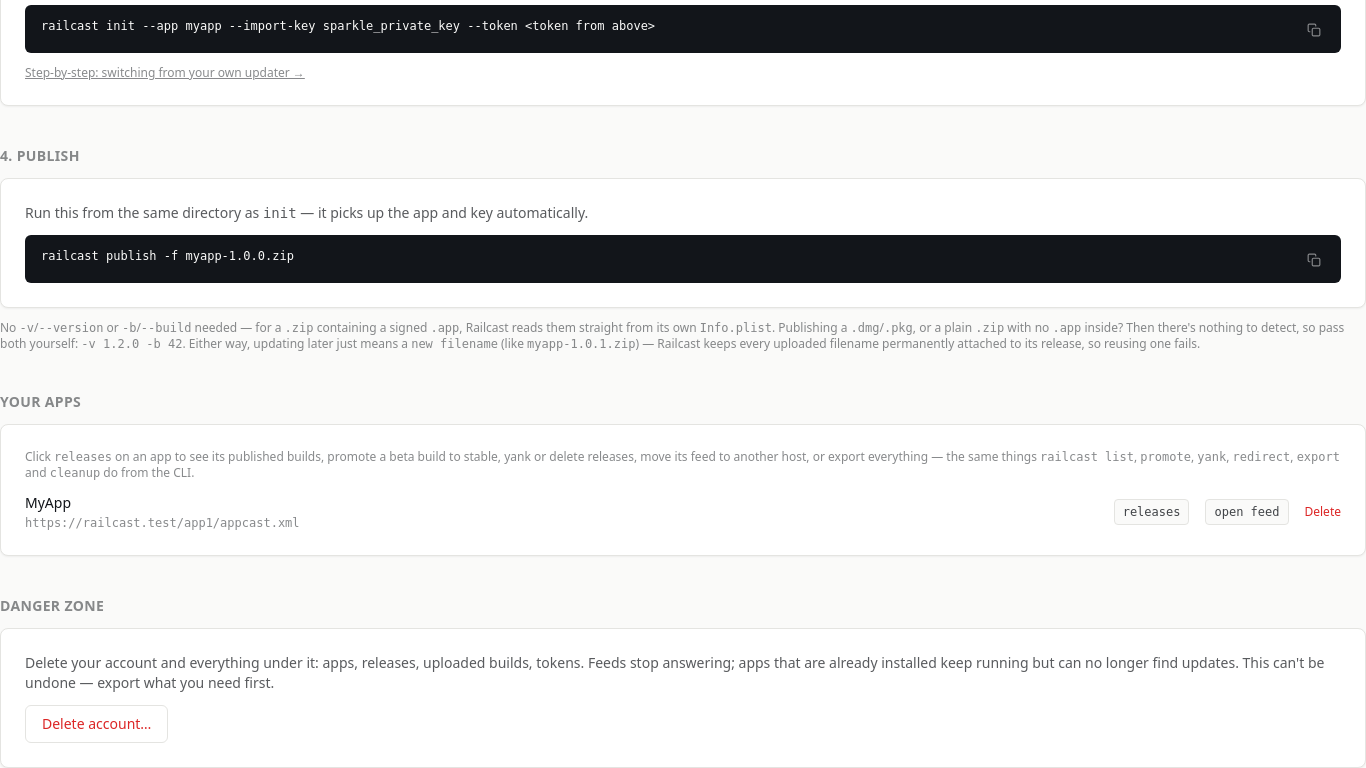
Scenario: export › shows the server's message when the export is refused
(page scrolled)
Step 1. Click the button "releases" → x=1152, y=512, box [1114,499,1190,525]
(page scrolled)
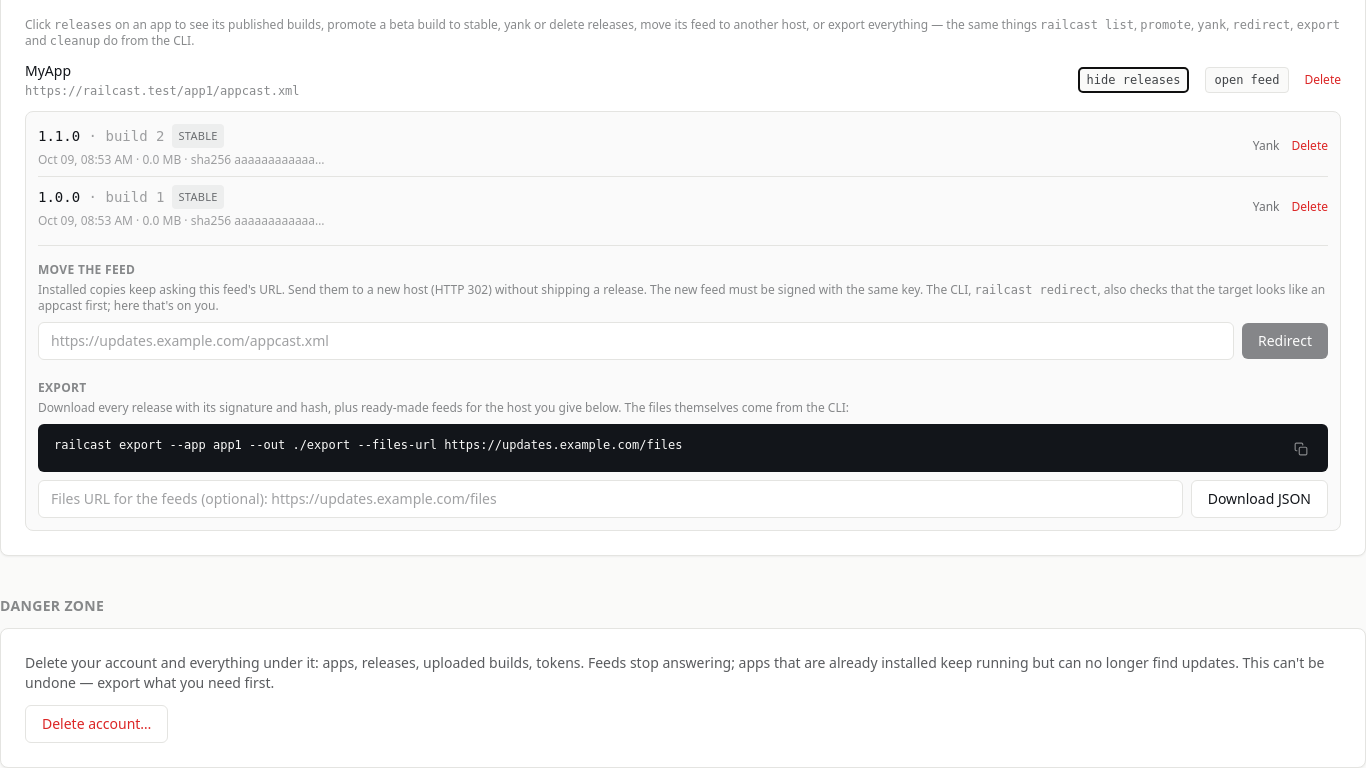
Now the text "1.1.0 · build 2" is shown, box [38,126,164,146]
Step 2. Type "http://example.com/files" into the field with placeholder "Files URL for the feeds" → x=610, y=499, box [38,480,1183,518]
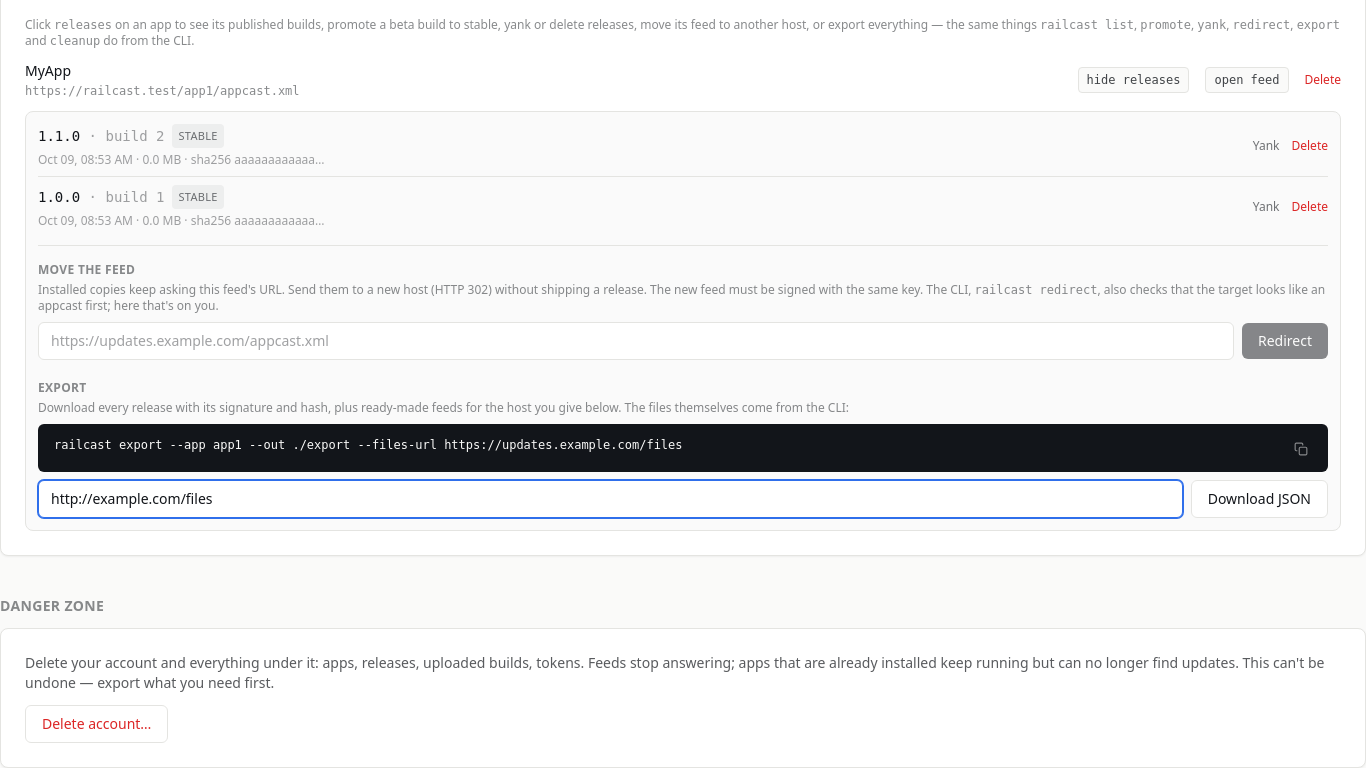
Step 3. Click the button "Download JSON" → x=1259, y=499, box [1191,480,1328,518]
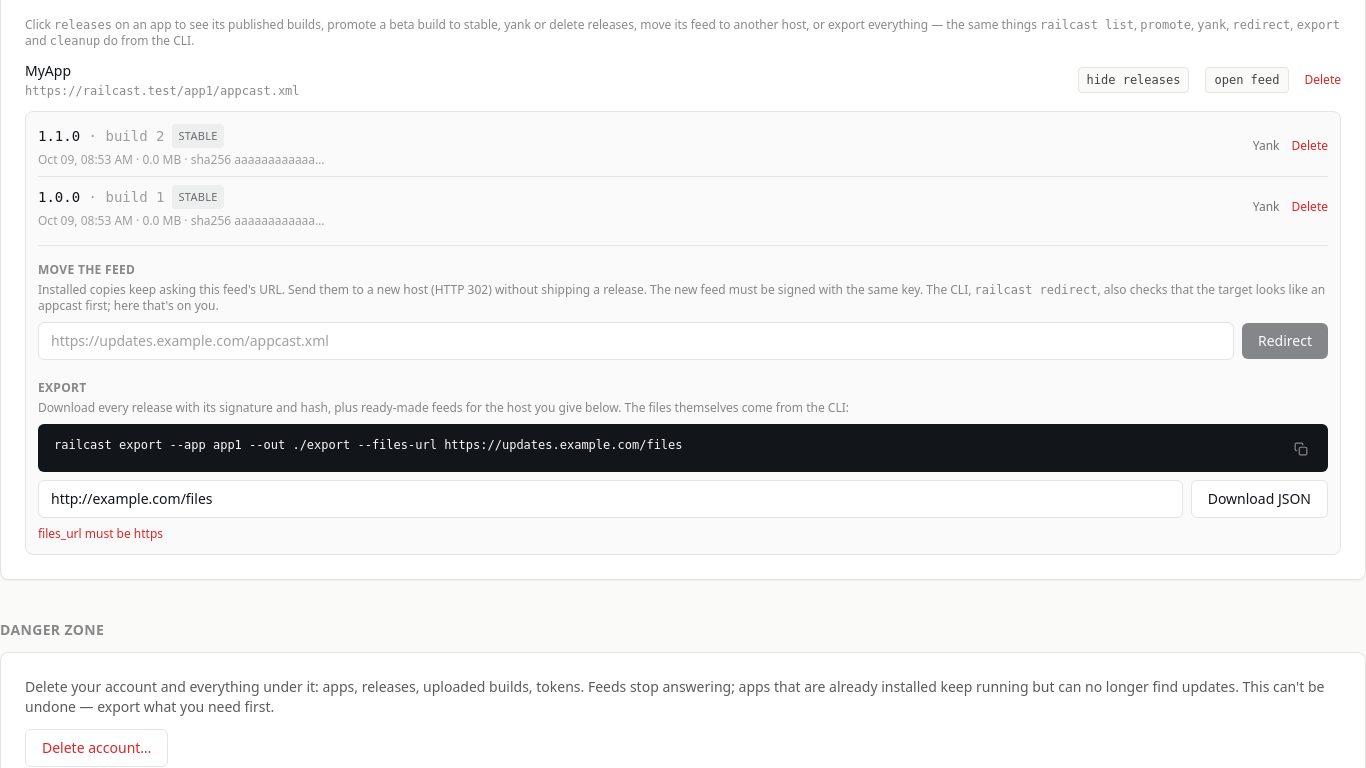
Now the text "files_url must be https" is shown, box [38,525,163,542]
